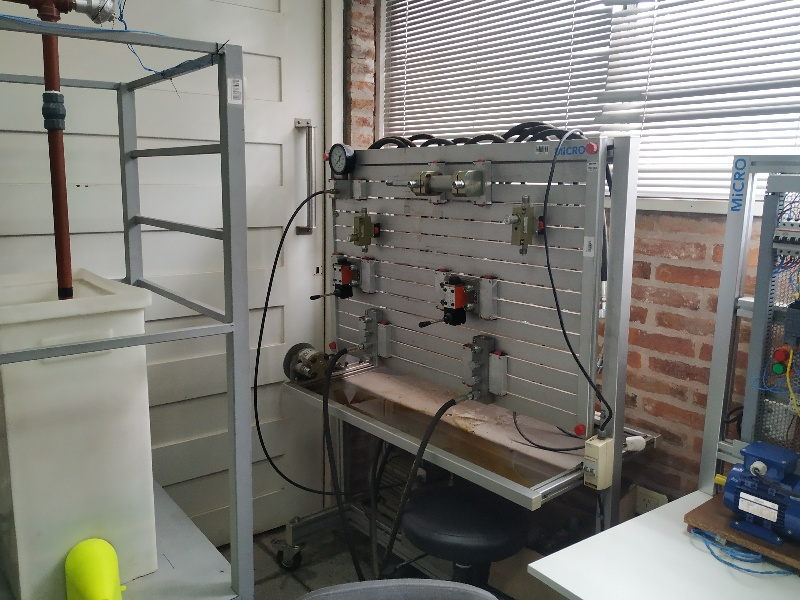Tablero 5: (332, 155, 595, 413)
